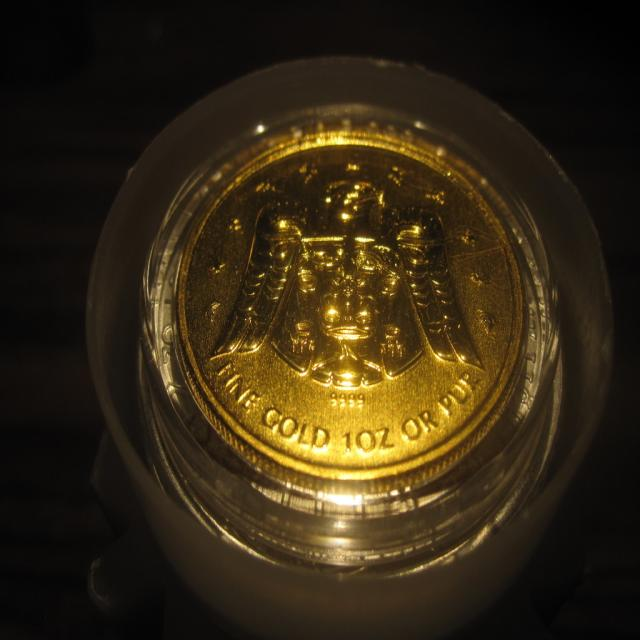Coin: (173, 120, 523, 494)
